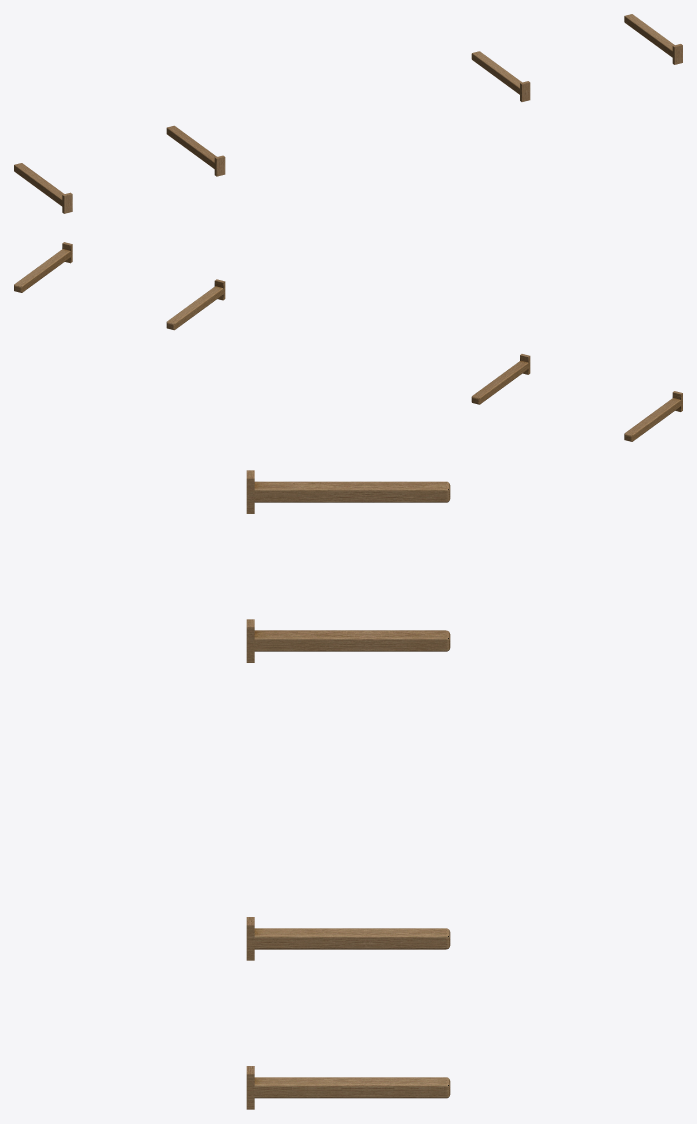
The picture shows the model from 3 angles, top to bottom: view 1: azimuth 30°, elevation 25°; view 2: azimuth 150°, elevation 25°; view 3: azimuth 270°, elevation 25°; orthographic projection. The views are drawn at different scales.
Parts seen in each view (by area): view 1: 7_网侧支架; view 2: 7_网侧支架; view 3: 7_网侧支架.
Boxes of the visible parts, bbox=[...] form: 7_网侧支架: bbox=[14, 14, 682, 213]; 7_网侧支架: bbox=[14, 242, 682, 441]; 7_网侧支架: bbox=[246, 470, 450, 1109].
Size of the model in its own units: 92.71 by 2.54 by 13.21.
1 material, 1 textured.
